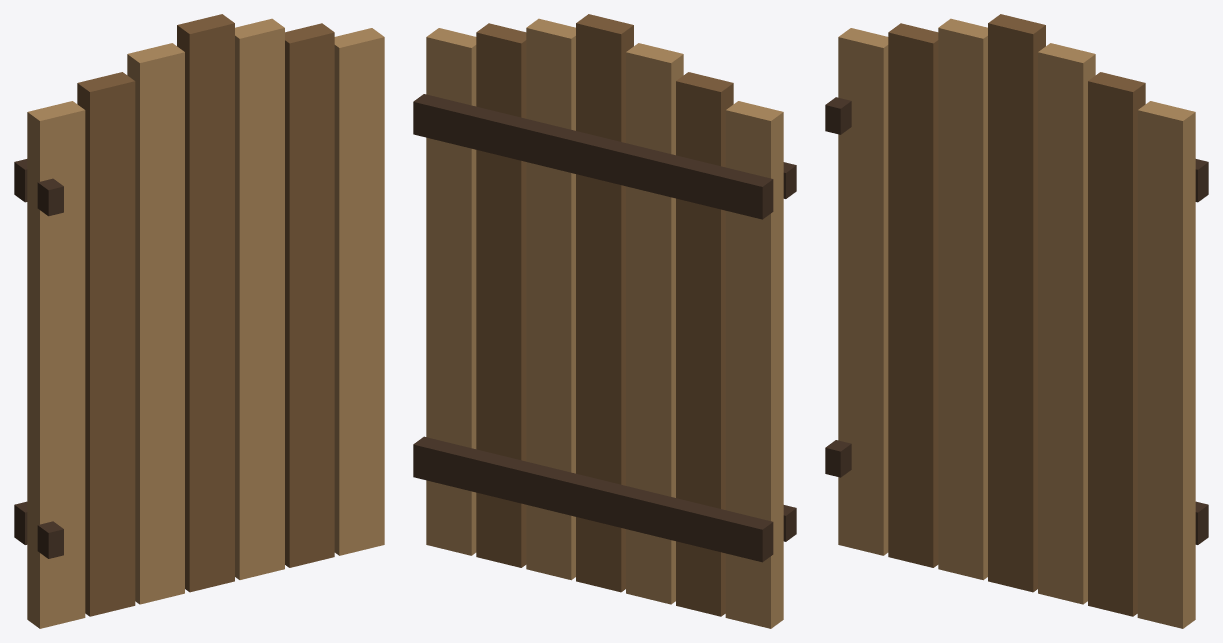
The model's file is TW_WOOD_GATE_LEAF_B_LOD0.glb.
3 views of the same model, side by side, from view 1: azimuth 30°, elevation 25°; view 2: azimuth 150°, elevation 25°; view 3: azimuth 330°, elevation 25° (orthographic).
Visible parts, largest first — view 1: TW_WOOD_GATE_LEAF_B_LOD0; view 2: TW_WOOD_GATE_LEAF_B_LOD0; view 3: TW_WOOD_GATE_LEAF_B_LOD0.
Boxes of the visible parts, box(x1,y1,x2,y2) form: TW_WOOD_GATE_LEAF_B_LOD0: box(14, 14, 384, 628); TW_WOOD_GATE_LEAF_B_LOD0: box(413, 14, 796, 628); TW_WOOD_GATE_LEAF_B_LOD0: box(825, 14, 1208, 628).
Size of the model in its own units: 1.12 by 1.71 by 0.19.
1 material, 1 textured.
